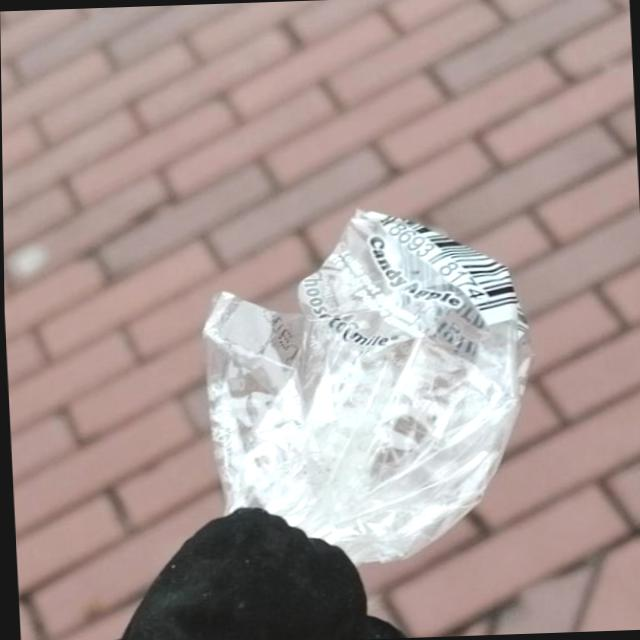Plastic: (189, 197, 545, 572)
